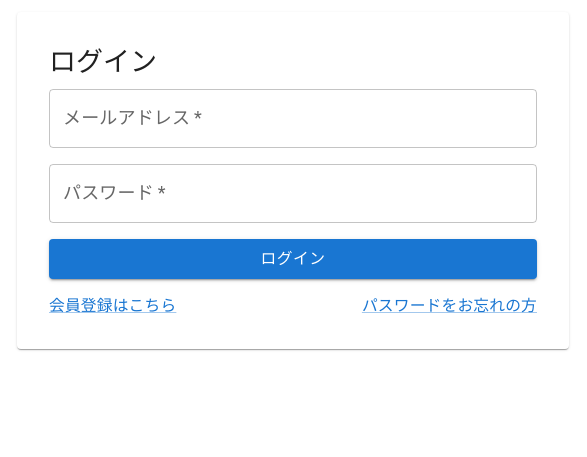
Test: Login › 423 のときにロックエラーを表示
Type "a@b.com" into the field labelled "メールアドレス *". click: (293, 119)
box: top-left (49, 90), bottom-right (537, 148)
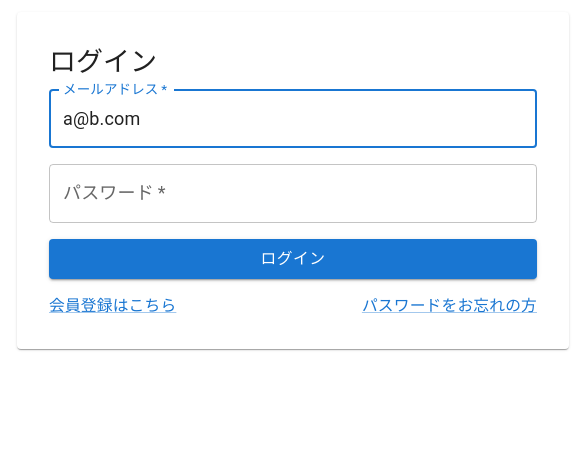
Type "badpass" into the password field labelled "パスワード *". click: (293, 194)
box: top-left (49, 164), bottom-right (537, 223)
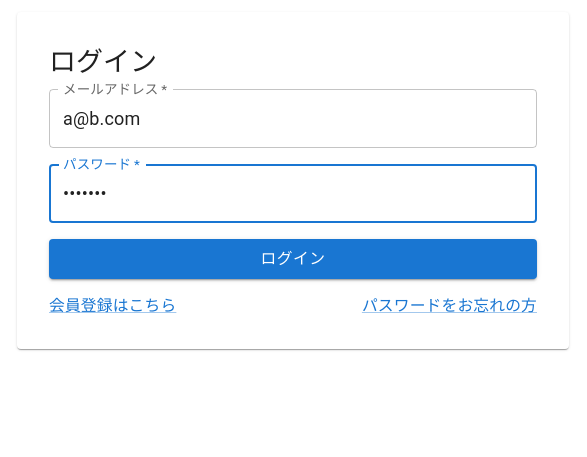
Click the button "ログイン". click: click(293, 259)
box: top-left (49, 239), bottom-right (537, 279)
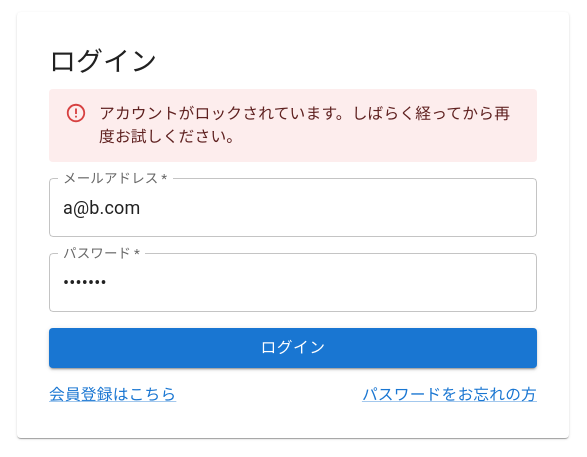
Now the text "アカウントがロックされています。しばらく経ってから再度お試しください。" is shown, box top-left (99, 96), bottom-right (521, 156)
